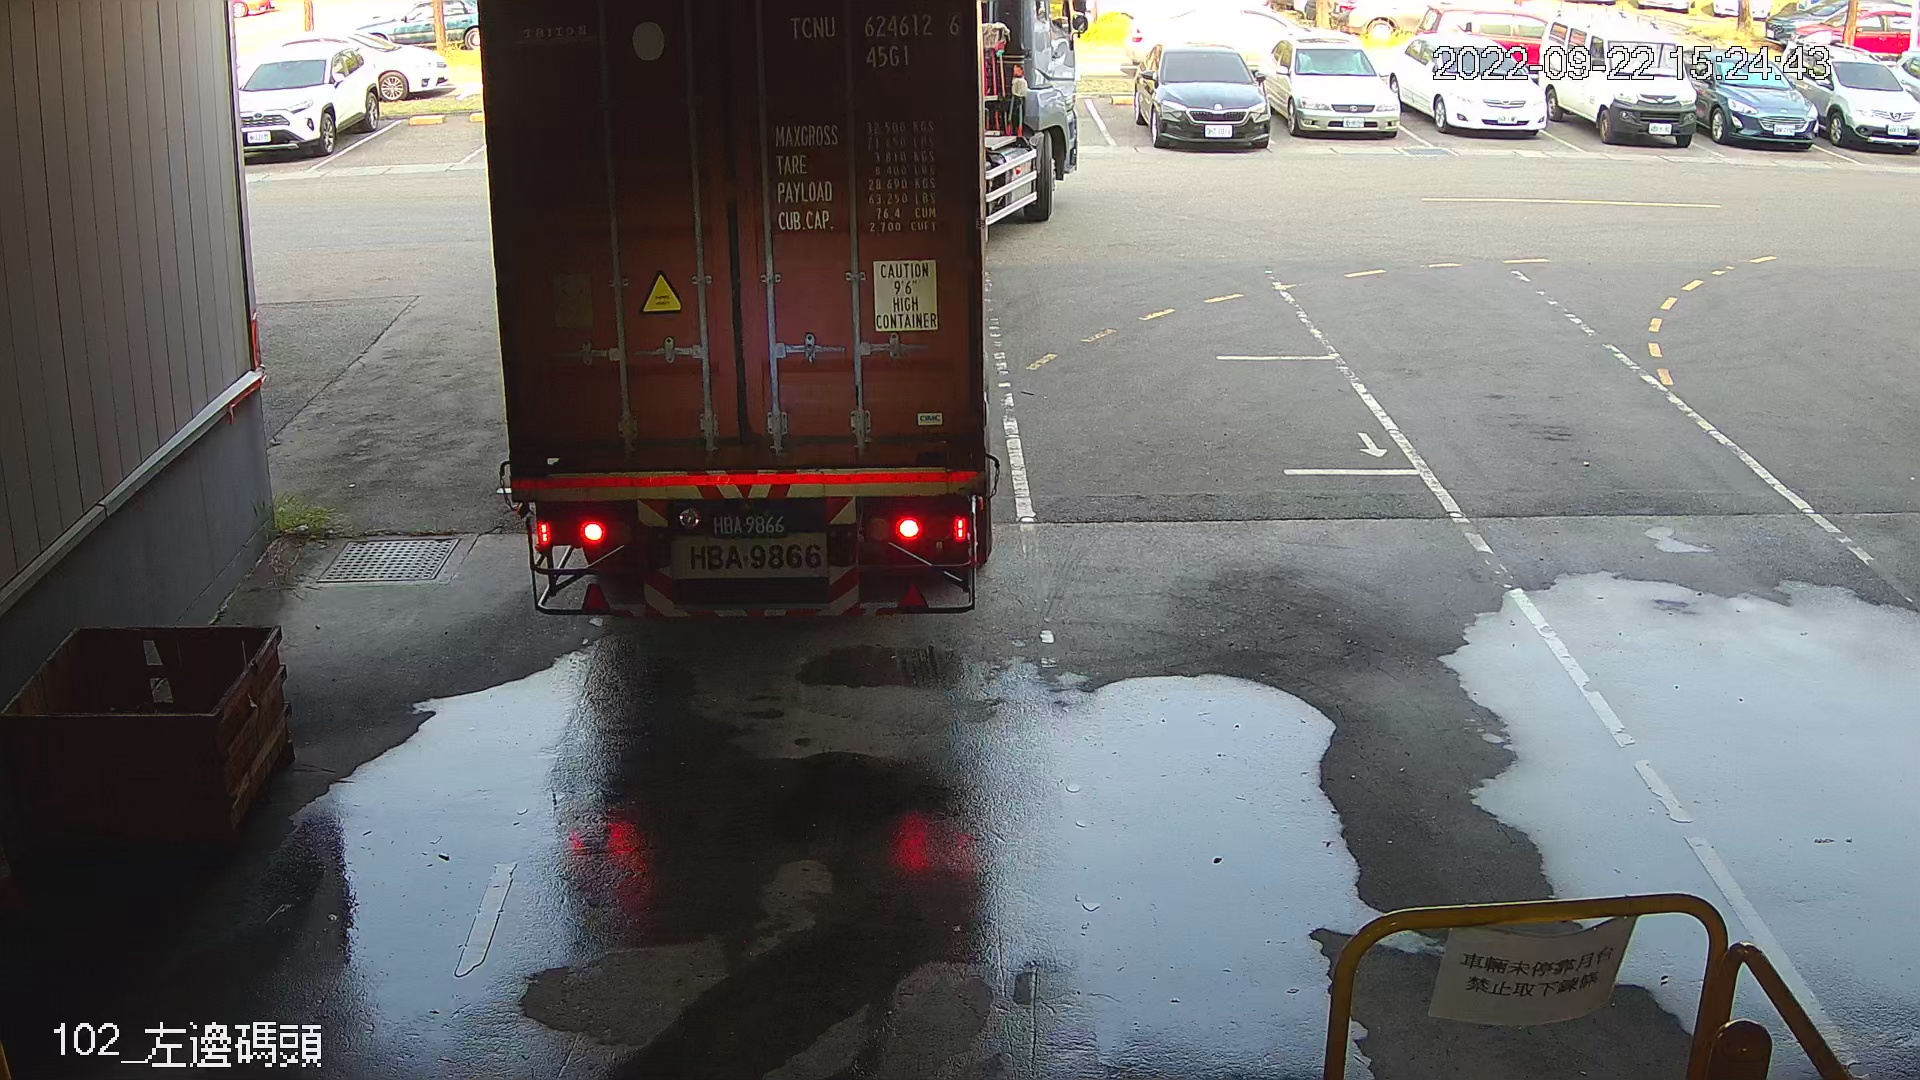container: (781, 4, 967, 70)
